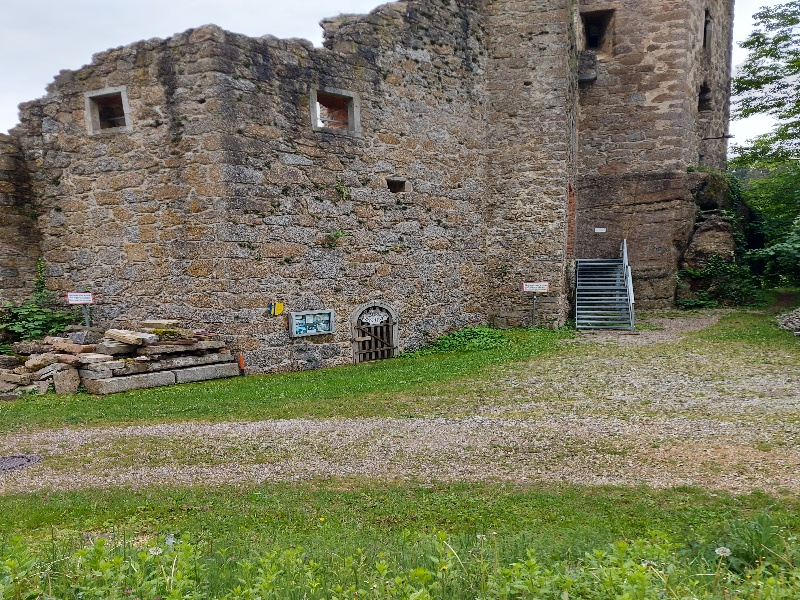dungeon: (338, 294, 409, 365)
